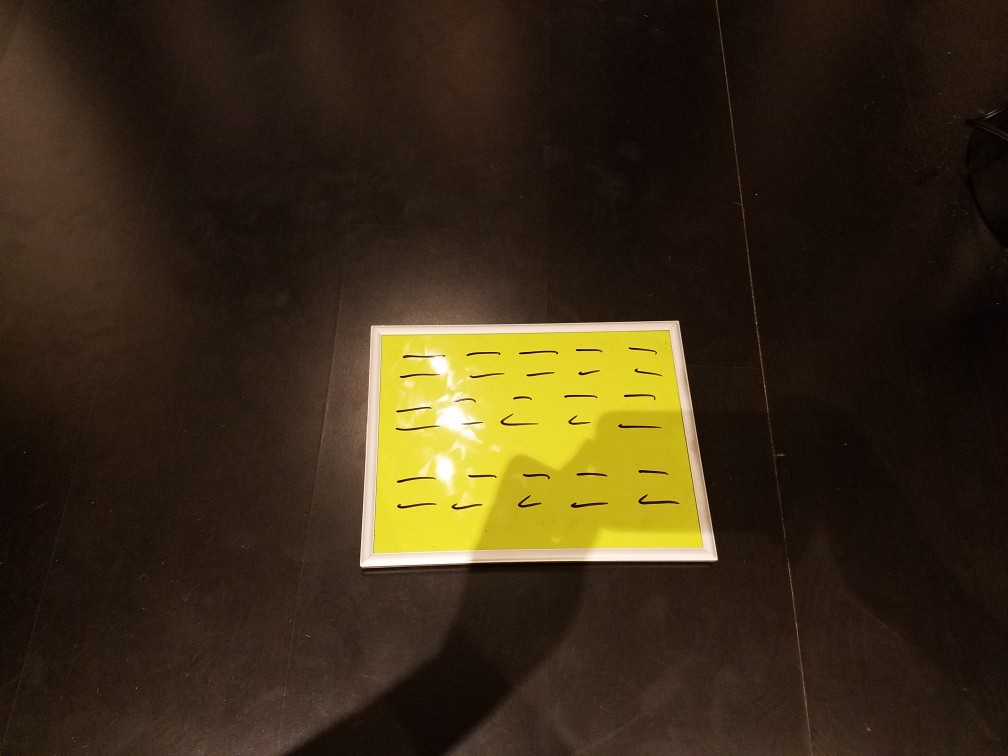=: (618, 459, 686, 528), (611, 380, 670, 445), (562, 460, 616, 526), (445, 466, 505, 524), (386, 470, 447, 523), (501, 465, 553, 522), (392, 342, 459, 386), (383, 397, 439, 445), (618, 339, 668, 383), (495, 388, 542, 434), (556, 386, 598, 434), (465, 346, 511, 388), (516, 344, 566, 381), (568, 341, 611, 382), (447, 394, 487, 435)
